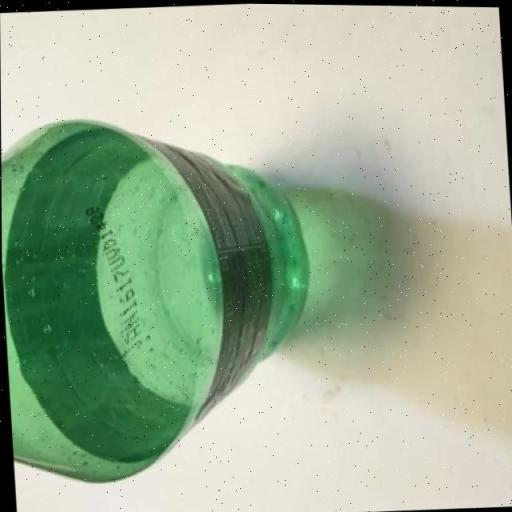plastic: (0, 102, 322, 490)
